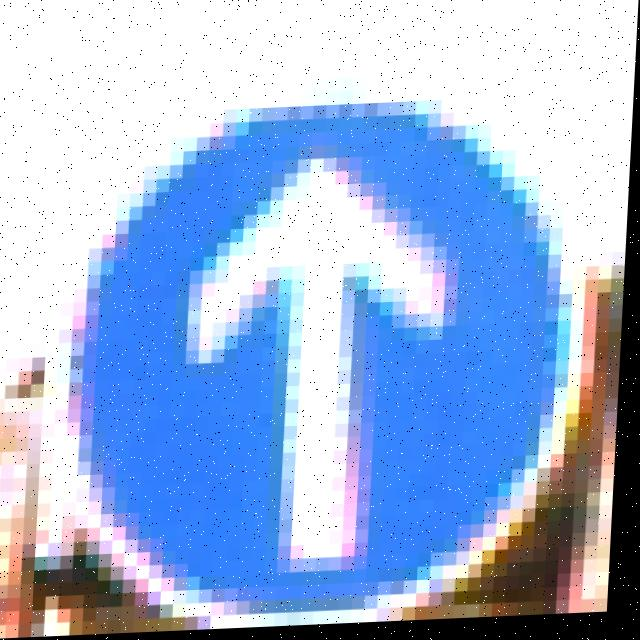compulsory_ahead: (86, 113, 575, 606)
